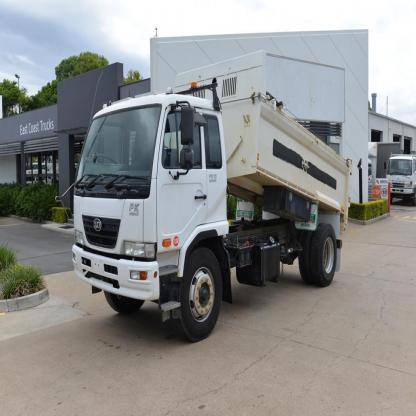dump_truck: (61, 74, 355, 344)
